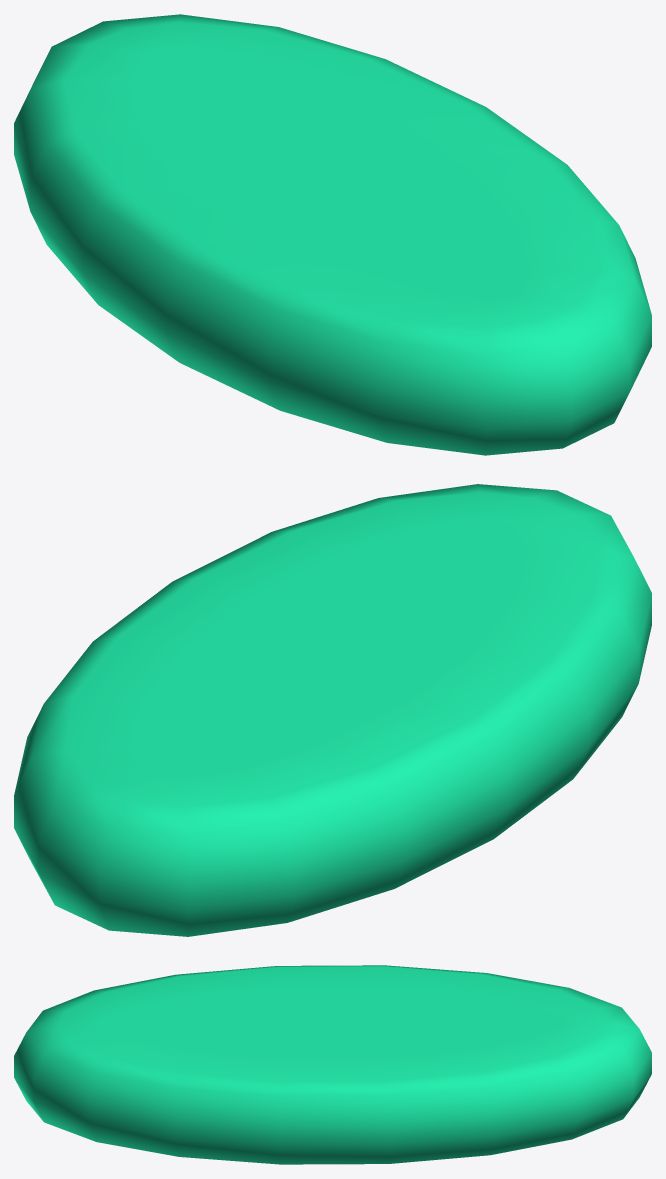
The model's file is Floor Pillow.fbx.
3 views of the same model, one above another, from view 1: azimuth 30°, elevation 25°; view 2: azimuth 150°, elevation 25°; view 3: azimuth 270°, elevation 25° (orthographic). The views are drawn at different scales.
Parts seen in each view (by area): view 1: FloorPillow_S; view 2: FloorPillow_S; view 3: FloorPillow_S.
Boxes of the visible parts, x1,y1,x2,y2 form: FloorPillow_S: (14, 14, 651, 455); FloorPillow_S: (14, 484, 651, 936); FloorPillow_S: (14, 965, 651, 1164).
Bounding box in the file's own units: 132 × 35.8 × 253.
